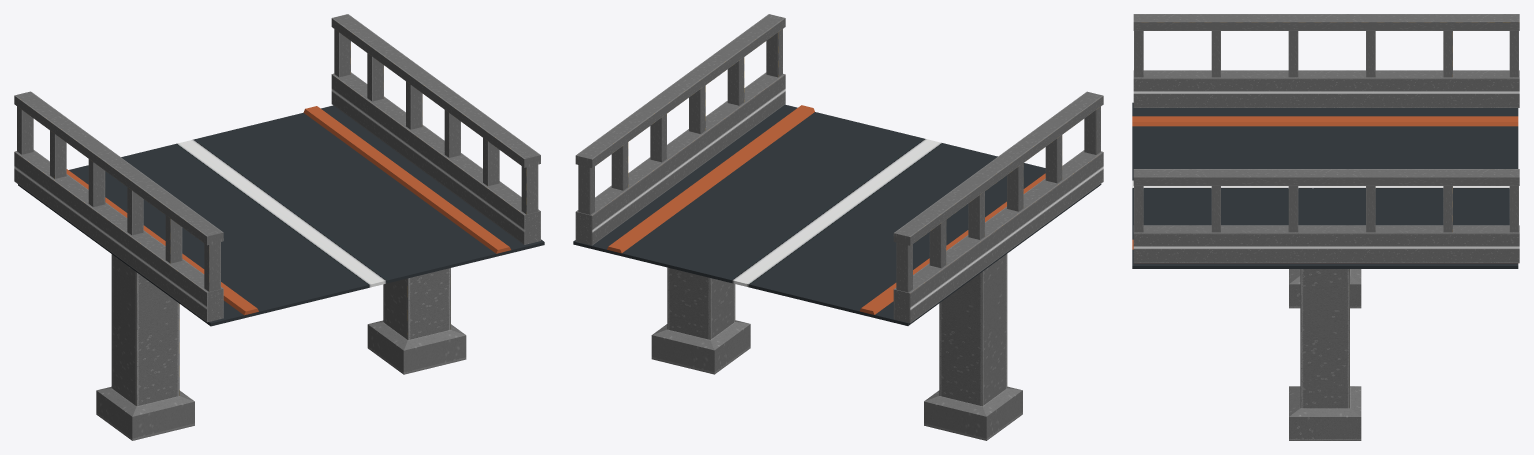
File: kartkids_base_trk_400_brg_mid_1x1.gltf
3 views of the same model, side by side, from view 1: azimuth 30°, elevation 25°; view 2: azimuth 150°, elevation 25°; view 3: azimuth 270°, elevation 25° (orthographic).
Parts seen in each view (by area): view 1: kartkids_base_trk_400_brg_mid_1x1.001, kartkids_base_trk_400_brg_mid_1x1.002, kartkids_base_trk_400_brg_mid_1x1; view 2: kartkids_base_trk_400_brg_mid_1x1.001, kartkids_base_trk_400_brg_mid_1x1.002, kartkids_base_trk_400_brg_mid_1x1; view 3: kartkids_base_trk_400_brg_mid_1x1.002, kartkids_base_trk_400_brg_mid_1x1.001, kartkids_base_trk_400_brg_mid_1x1.
Boxes of the visible parts, box(x1,y1,x2,y2) form: kartkids_base_trk_400_brg_mid_1x1.001: box(18, 105, 544, 326); kartkids_base_trk_400_brg_mid_1x1.002: box(14, 14, 540, 322); kartkids_base_trk_400_brg_mid_1x1: box(96, 254, 466, 440); kartkids_base_trk_400_brg_mid_1x1.001: box(573, 104, 1101, 325); kartkids_base_trk_400_brg_mid_1x1.002: box(575, 14, 1103, 323); kartkids_base_trk_400_brg_mid_1x1: box(651, 254, 1022, 440); kartkids_base_trk_400_brg_mid_1x1.002: box(1133, 14, 1519, 263); kartkids_base_trk_400_brg_mid_1x1.001: box(1132, 102, 1518, 268); kartkids_base_trk_400_brg_mid_1x1: box(1289, 269, 1361, 440).
Bounding box in the file's own units: 10.09 × 7.49 × 10.04.
Materials: 2 (2 with a texture image).
